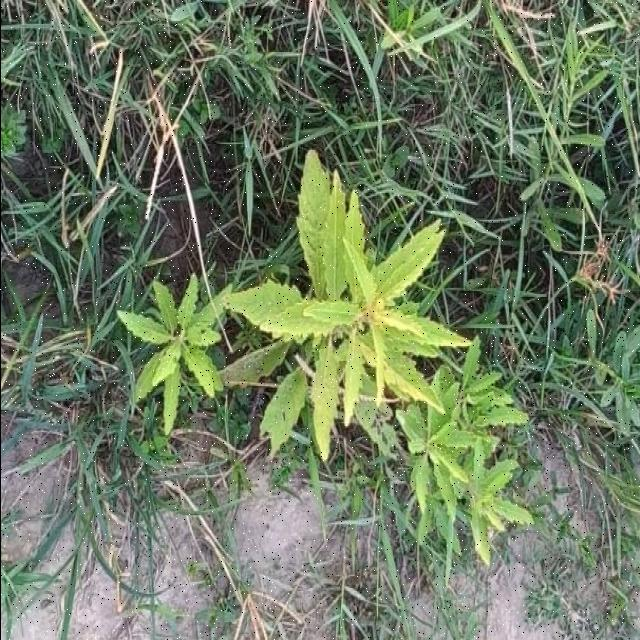weed: (118, 151, 530, 563)
